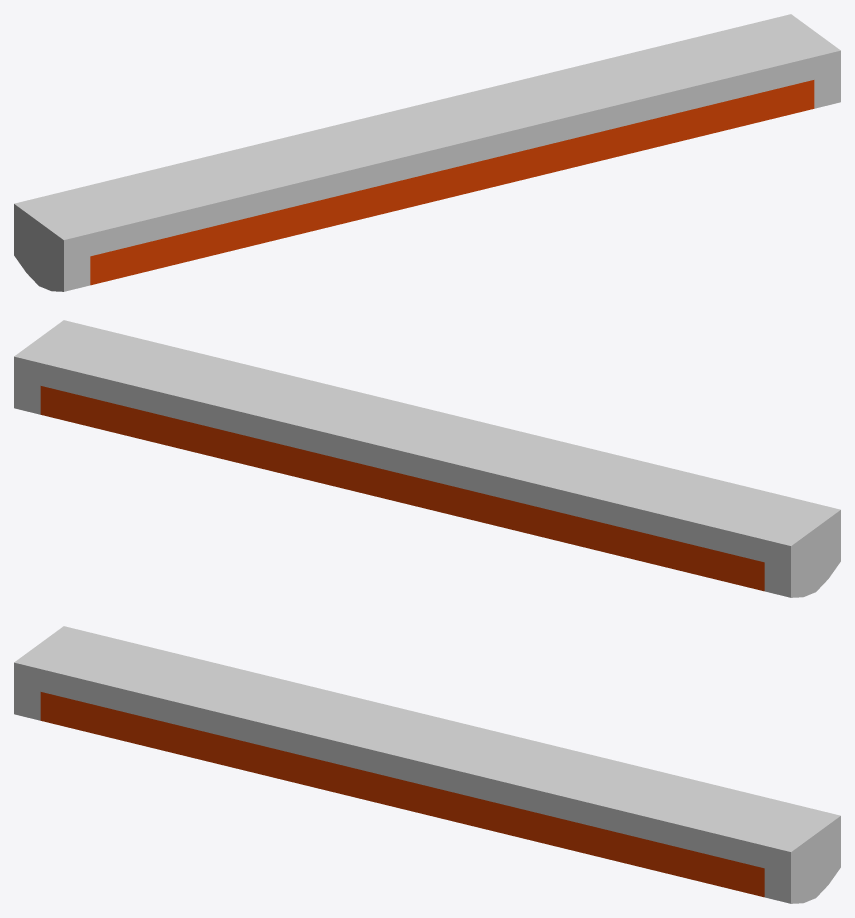
The model's file is Lamp.fbx.
The picture shows the model from 3 angles, top to bottom: view 1: azimuth 30°, elevation 25°; view 2: azimuth 150°, elevation 25°; view 3: azimuth 330°, elevation 25°; orthographic projection.
Parts seen in each view (by area): view 1: Lamp; view 2: Lamp; view 3: Lamp.
Part boxes in pixels (box(x1,y1,x2,y2)): Lamp: box(14, 14, 840, 291); Lamp: box(14, 320, 840, 597); Lamp: box(14, 626, 840, 903).
Size of the model in its own units: 180 by 14.2 by 20.
